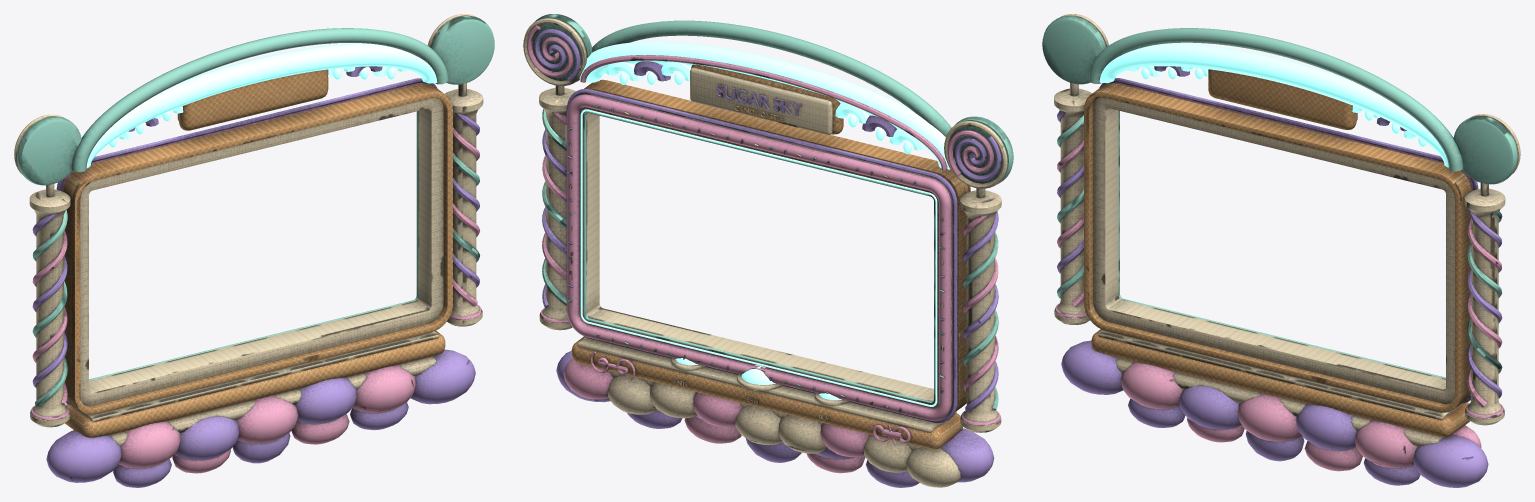
The picture shows the model from 3 angles, left to right: view 1: azimuth 30°, elevation 25°; view 2: azimuth 150°, elevation 25°; view 3: azimuth 330°, elevation 25°; orthographic projection. The views are drawn at different scales.
Visible parts, largest first — view 1: Cream_wafer_emboss, Golden_biscuit, Lavender_confection, Mint_confection, Whipped_pink_sugar, Aurora_jelly_glow; view 2: Cream_wafer_emboss, Whipped_pink_sugar, Lavender_confection, Mint_confection, Golden_biscuit, Aurora_jelly_glow; view 3: Cream_wafer_emboss, Golden_biscuit, Lavender_confection, Mint_confection, Whipped_pink_sugar, Aurora_jelly_glow.
Boxes of the visible parts, box(x1,y1,x2,y2) form: Cream_wafer_emboss: box(14, 14, 483, 446); Golden_biscuit: box(63, 69, 452, 437); Lavender_confection: box(32, 66, 479, 487); Mint_confection: box(17, 16, 494, 406); Whipped_pink_sugar: box(30, 83, 481, 473); Aurora_jelly_glow: box(81, 43, 437, 168); Cream_wafer_emboss: box(523, 18, 1007, 487); Whipped_pink_sugar: box(527, 25, 1000, 473); Lavender_confection: box(534, 29, 1001, 487); Mint_confection: box(532, 14, 1013, 410); Golden_biscuit: box(571, 64, 970, 449); Aurora_jelly_glow: box(579, 41, 955, 406); Cream_wafer_emboss: box(1054, 14, 1520, 446); Golden_biscuit: box(1084, 69, 1471, 437); Lavender_confection: box(1057, 66, 1502, 487); Mint_confection: box(1042, 16, 1517, 395); Whipped_pink_sugar: box(1055, 82, 1504, 471); Aurora_jelly_glow: box(1099, 43, 1453, 167).
Size of the model in its own units: 11.48 by 9.7 by 1.68.
6 materials, 6 textured.
